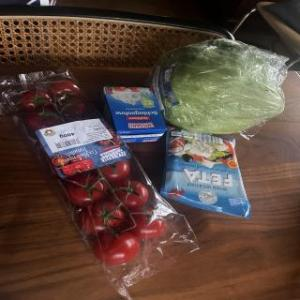cabbage: (154, 31, 288, 148)
tomato: (88, 230, 148, 266), (66, 194, 122, 232), (56, 172, 104, 206), (122, 205, 168, 240), (110, 176, 152, 212), (46, 76, 84, 106), (18, 105, 56, 135), (14, 86, 52, 110)
